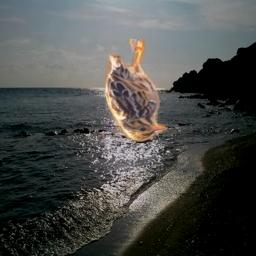Sparrow: (104, 39, 168, 142)
